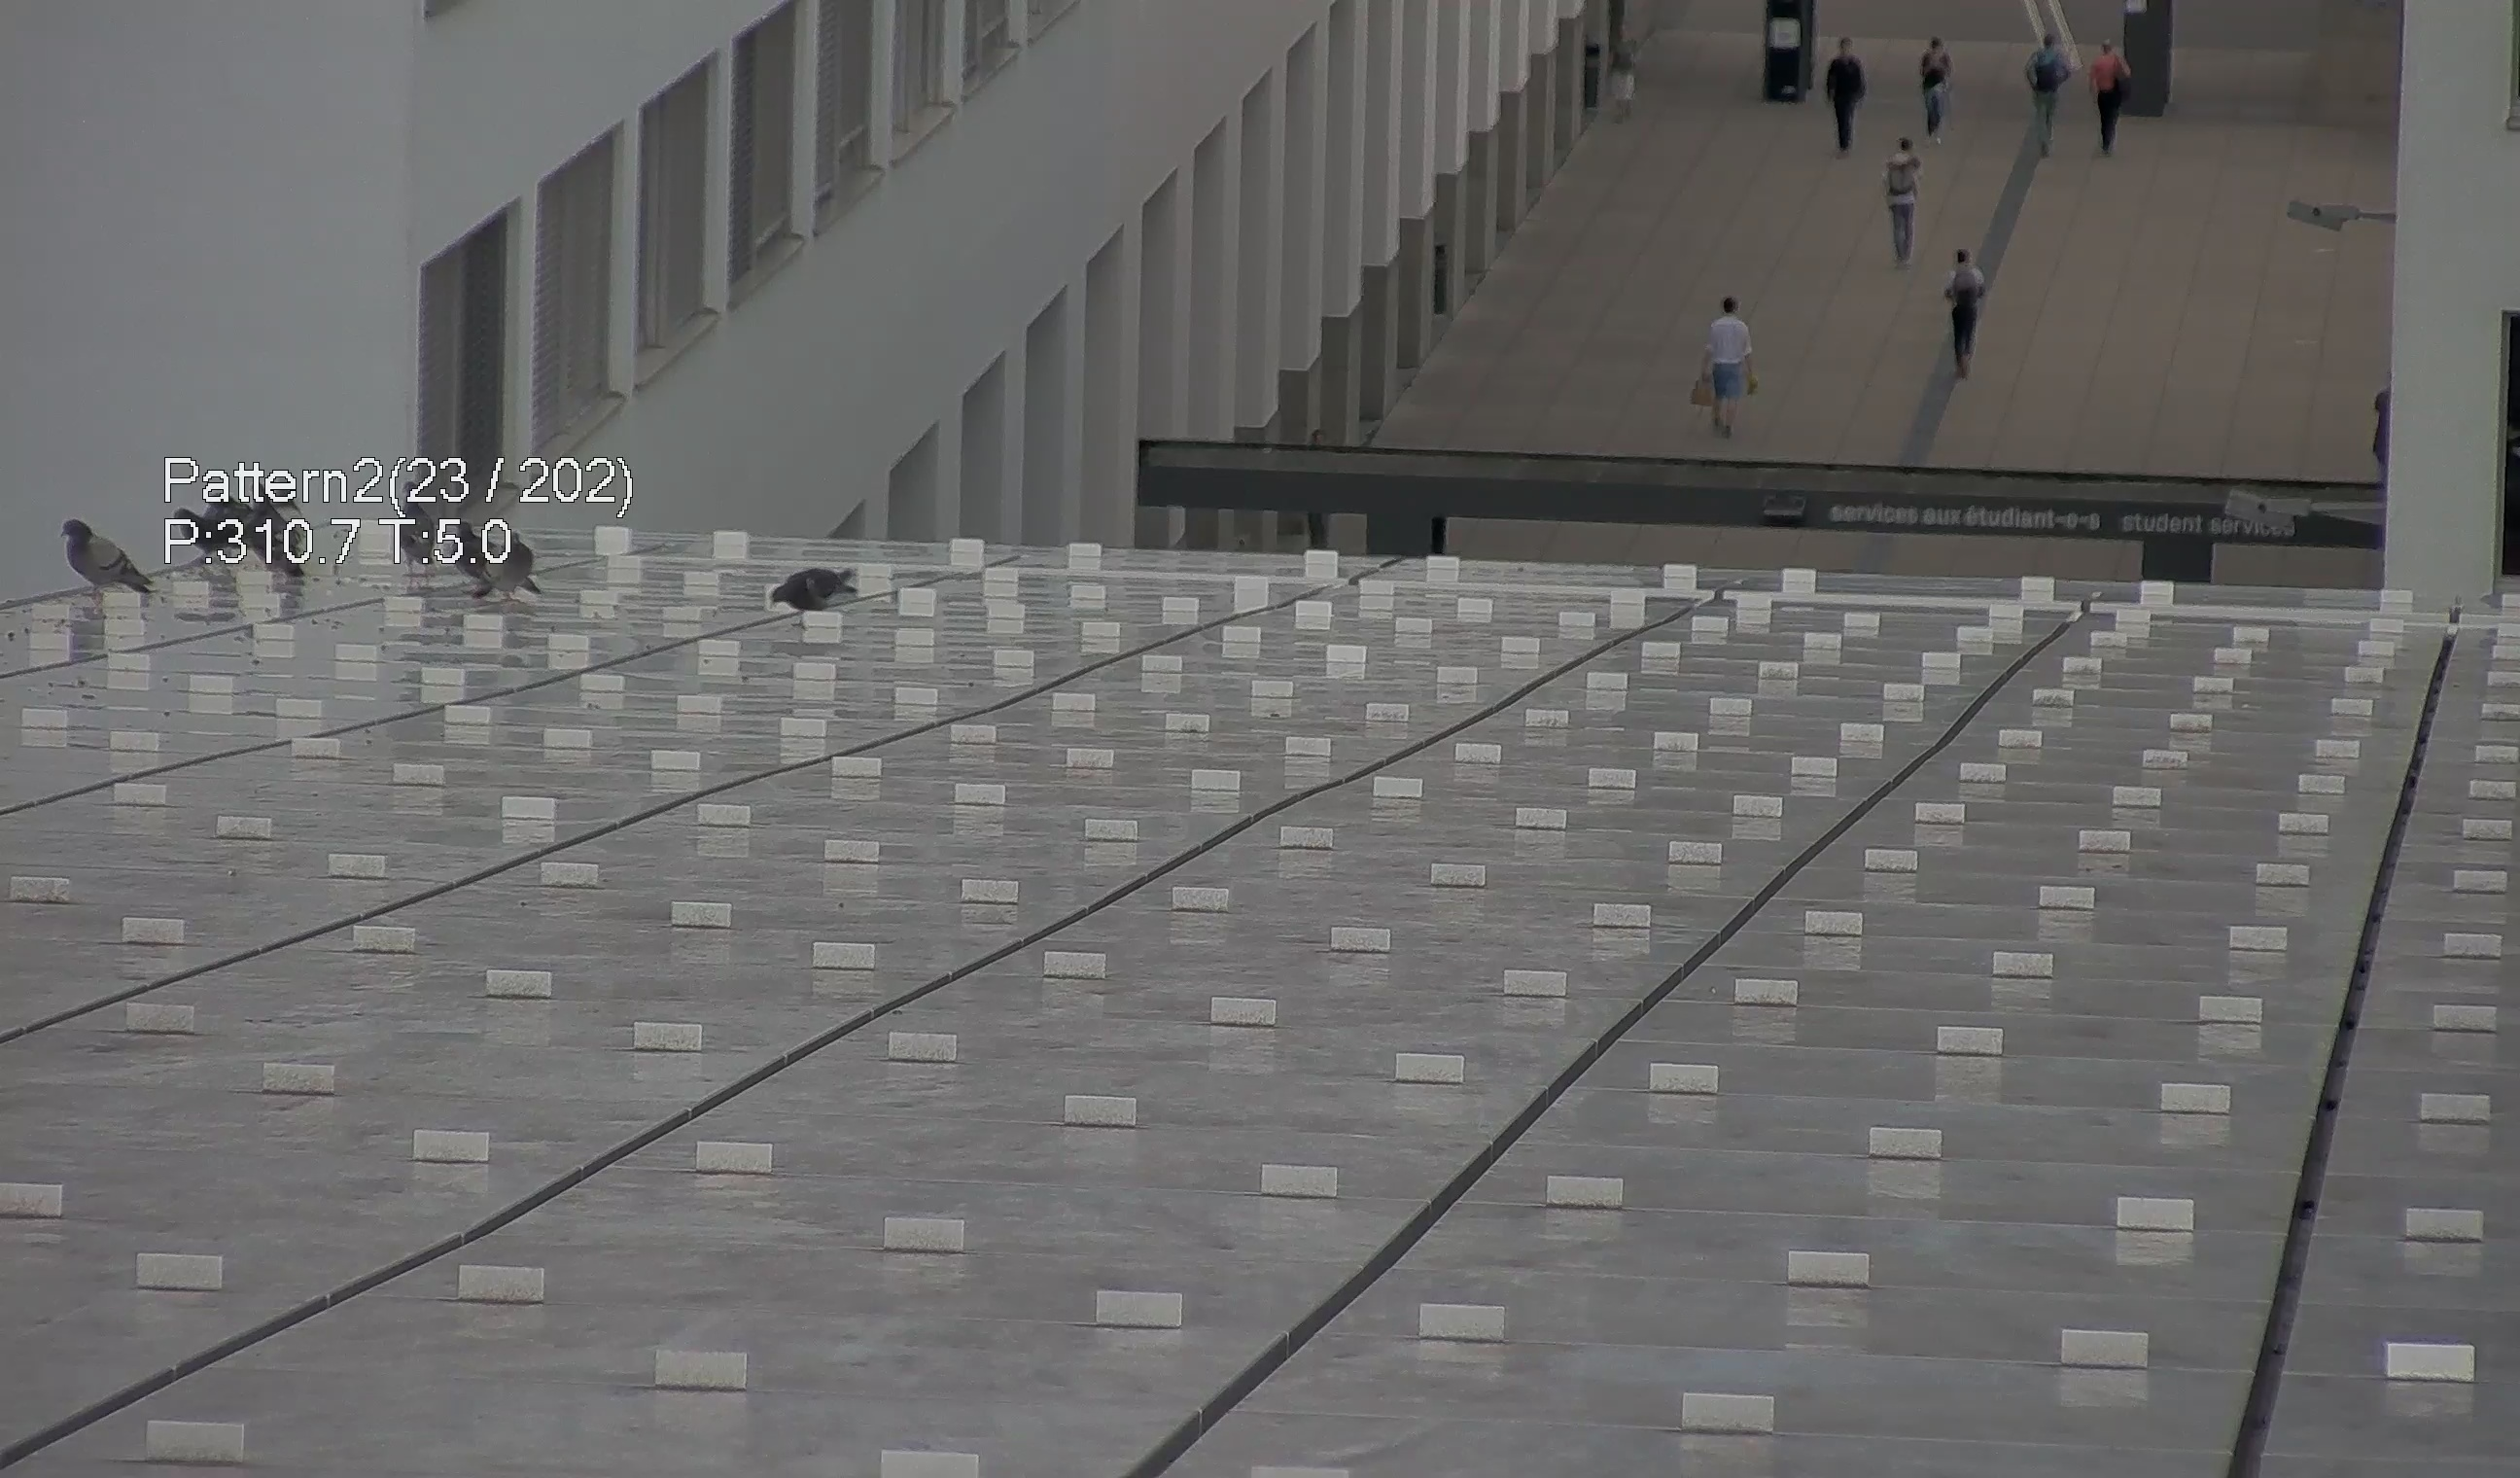Pigeon: (56, 514, 178, 602), (754, 556, 863, 625), (457, 519, 535, 602)
